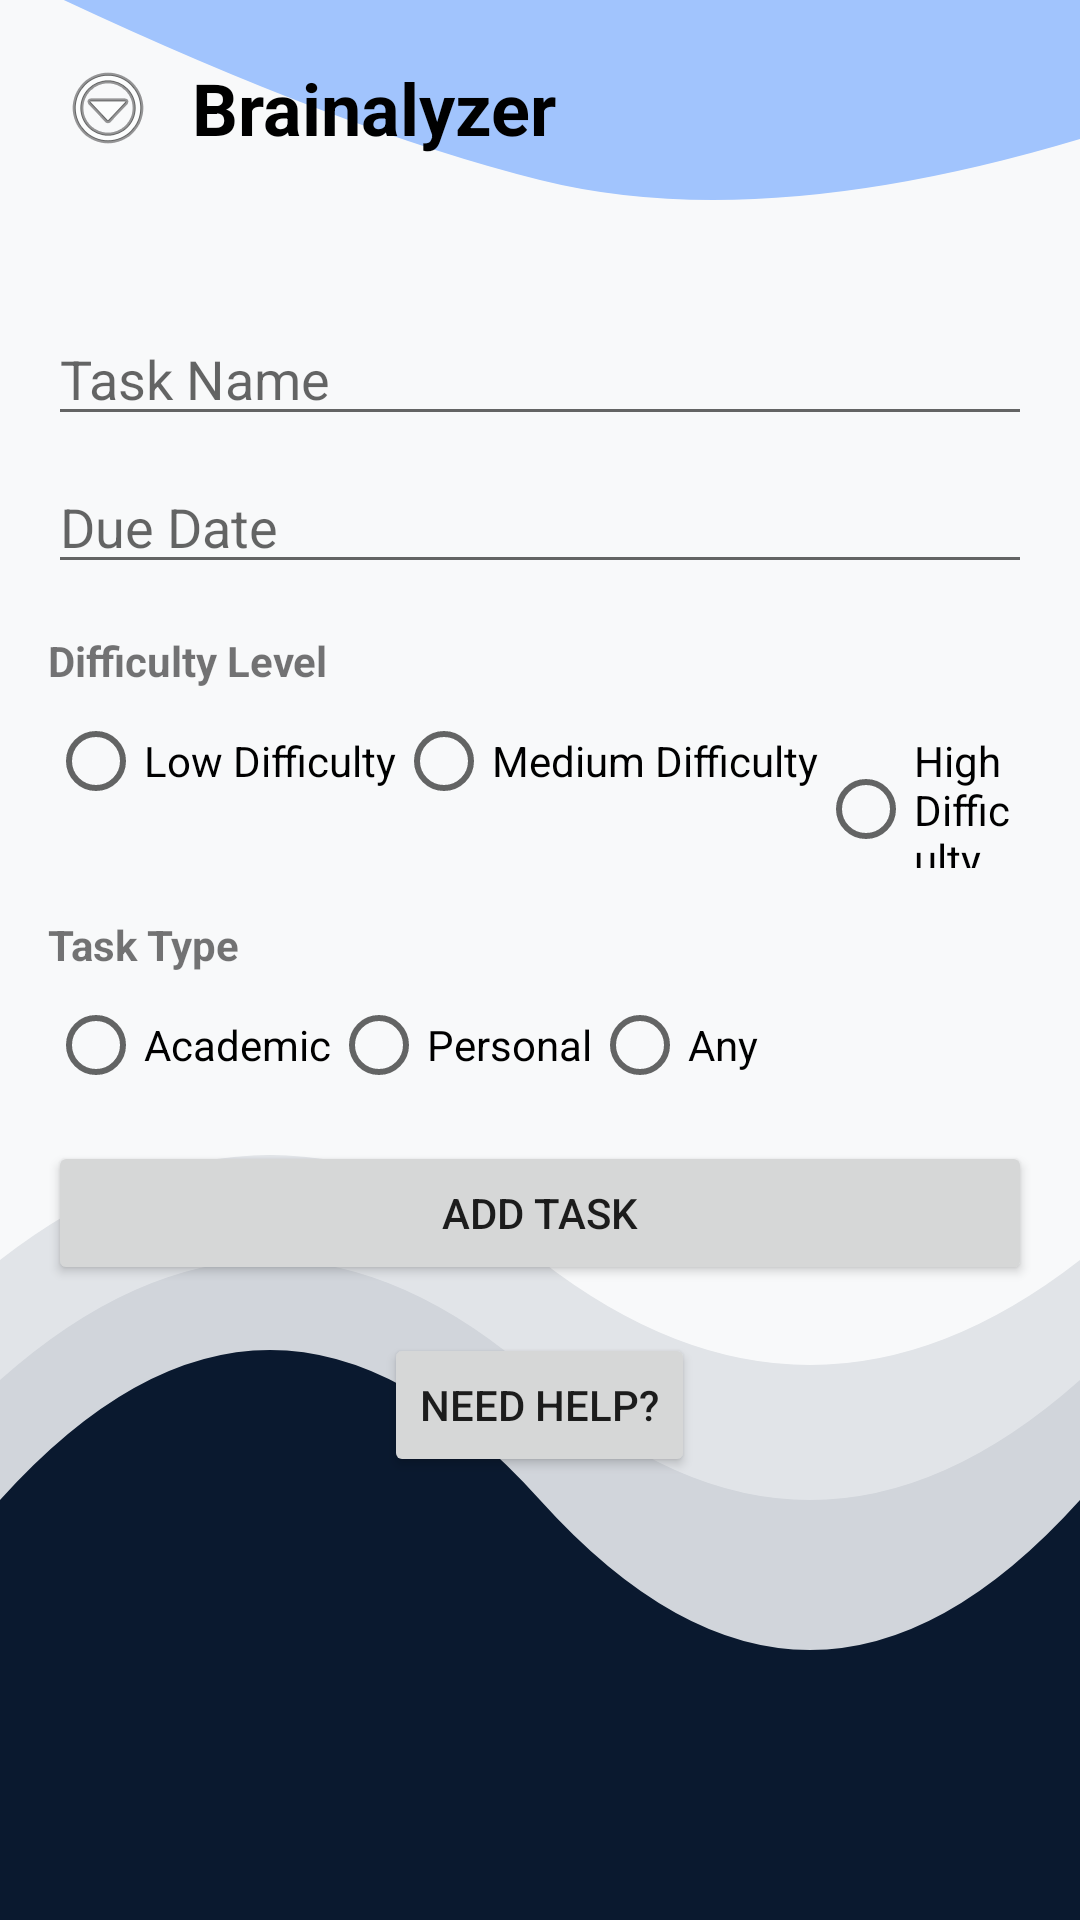

Icons on this 1080×1920 Android screen, each with the point to tap as (x=x, y=y):
Open Menu: (x=108, y=108)
